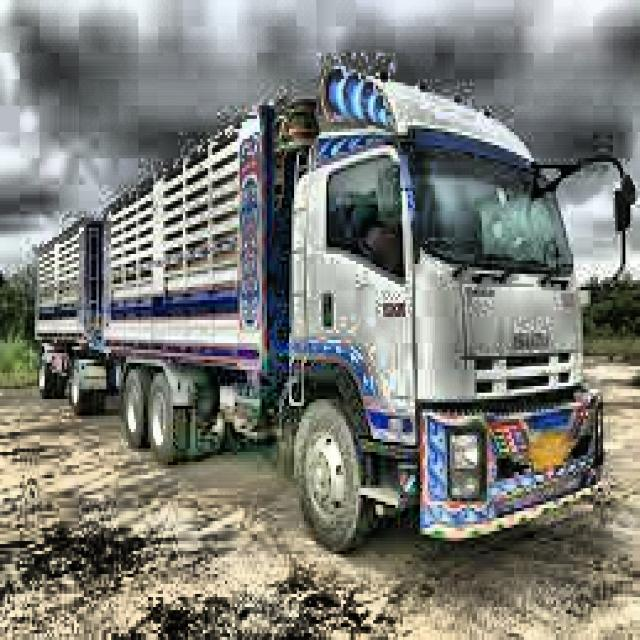trailer: (34, 66, 605, 552)
